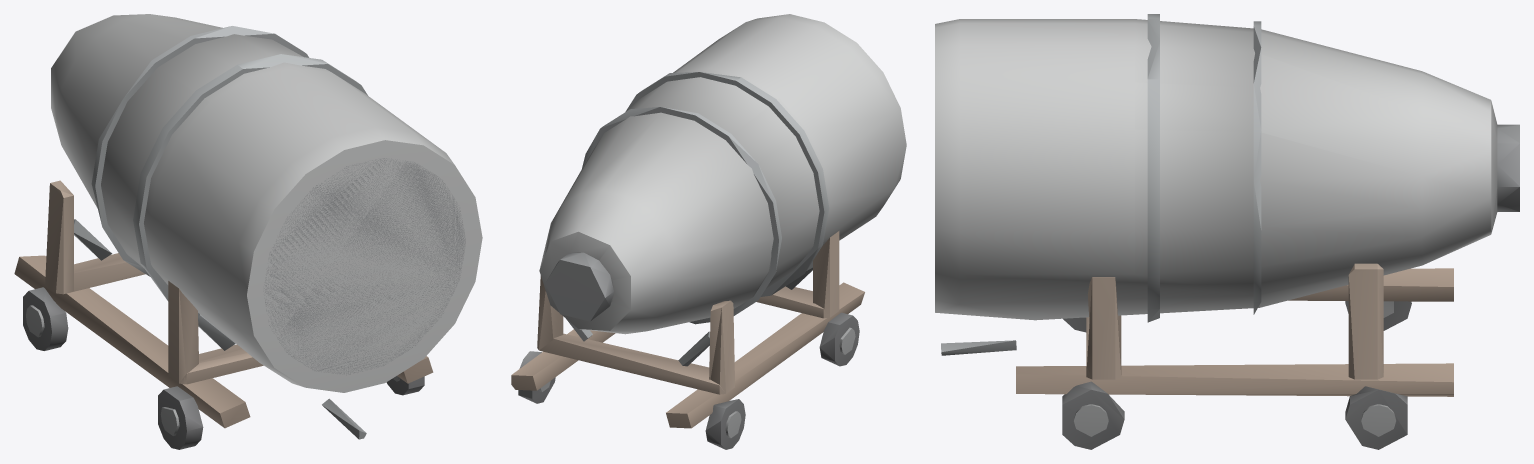
The model's file is engine.lod1.glb.
3 views of the same model, side by side, from view 1: azimuth 30°, elevation 25°; view 2: azimuth 150°, elevation 25°; view 3: azimuth 270°, elevation 25° (orthographic). The views are drawn at different scales.
Bounding box in the file's own units: 2.48 × 3.16 × 4.68.
